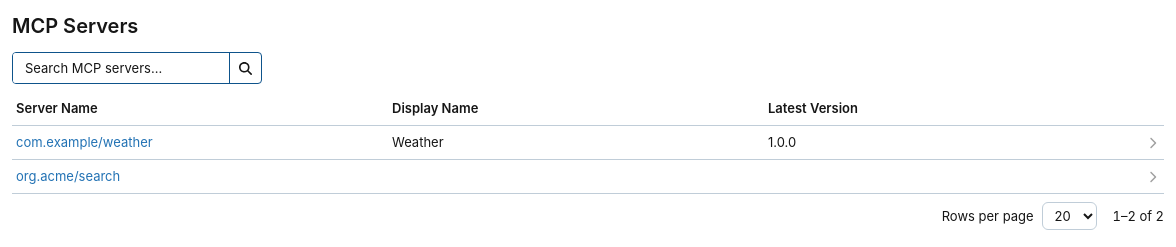
Test: McpServersPage › searches through the paged fetcher
Type "acme" into the field with placeholder "Search MCP servers...".
click(121, 68); type("acme")  # box [13,53,229,83]
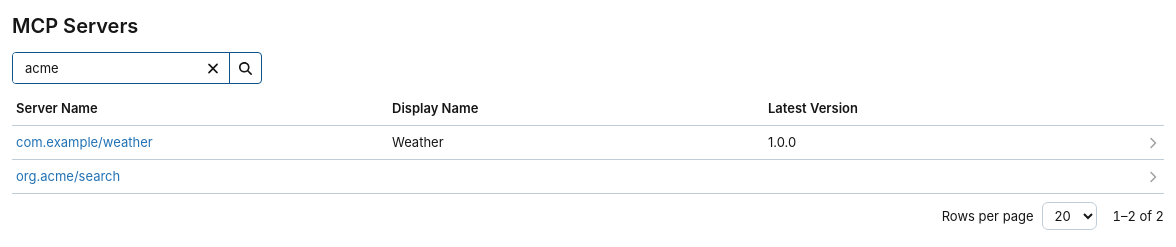
Submit the form from the field with placeholder "Search MCP servers...", box [13,53,229,83]
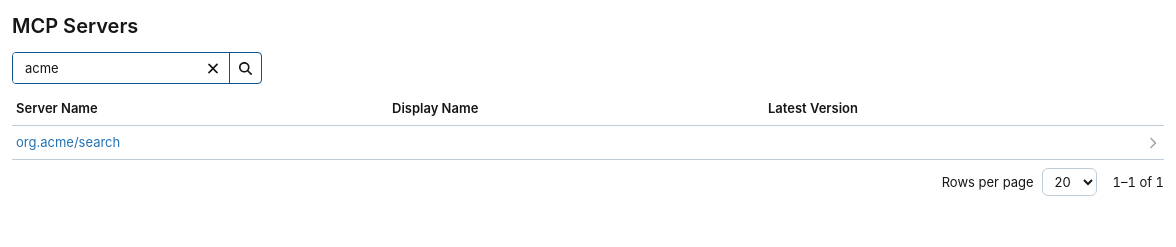
Check: the link "org.acme/search" is shown, box [16,134,120,150]
Check: the link "com.example/weather" is gone
